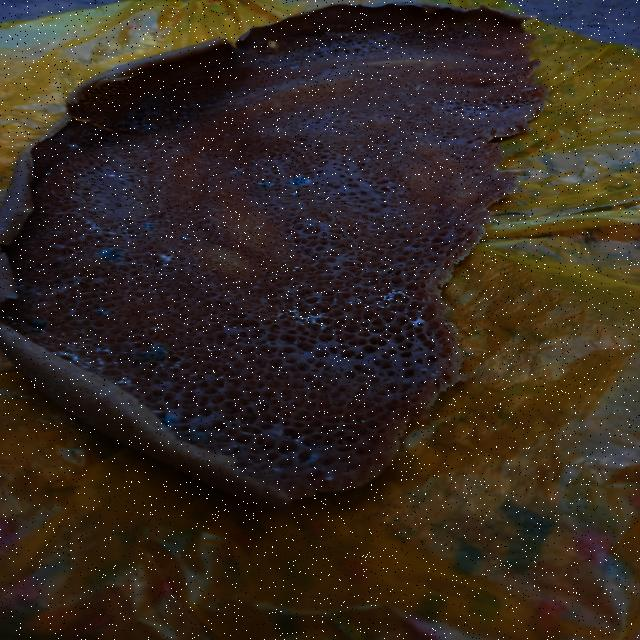injera_mold: (44, 334, 118, 370), (277, 305, 334, 328), (376, 286, 417, 308), (134, 345, 172, 365), (81, 218, 119, 236), (94, 247, 126, 260), (25, 316, 50, 330), (110, 376, 136, 388), (157, 414, 177, 428), (158, 252, 174, 266), (411, 316, 427, 328), (289, 177, 310, 186), (257, 180, 275, 188), (65, 142, 82, 150), (305, 453, 319, 462), (229, 168, 246, 175), (96, 307, 110, 315), (143, 123, 158, 130), (180, 234, 193, 242), (323, 476, 335, 482), (143, 222, 155, 228), (289, 65, 299, 70), (291, 192, 298, 196), (46, 172, 51, 176)
